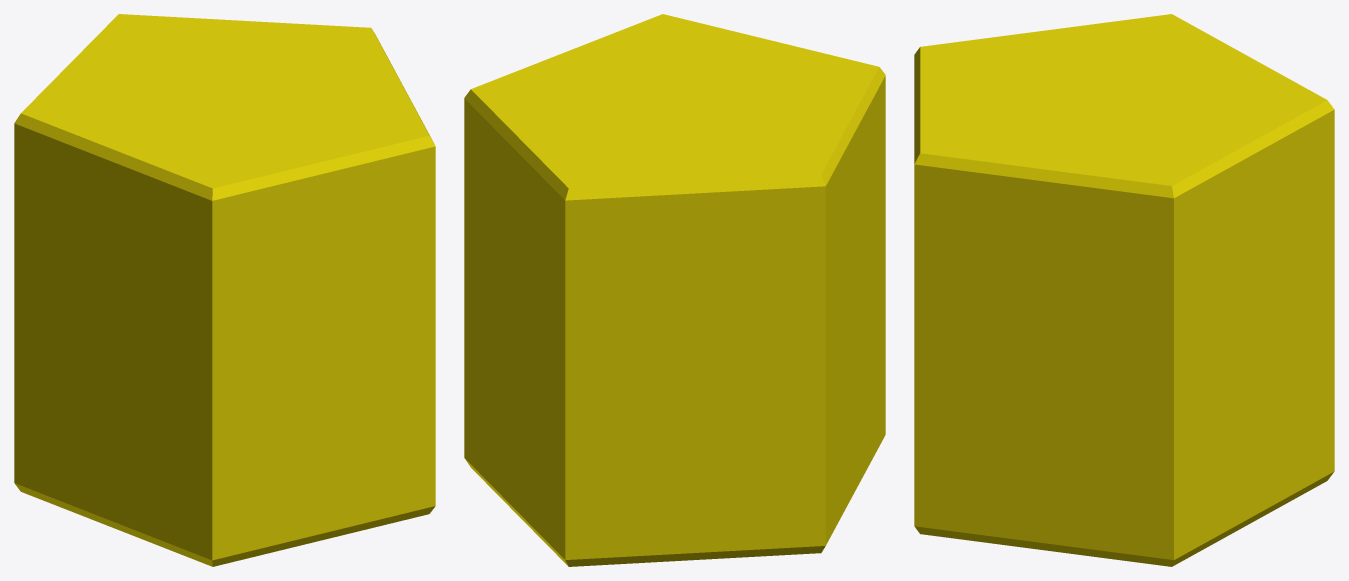
Rendered from pentagon.fbx.
3 renders of one model, left to right at view 1: azimuth 30°, elevation 25°; view 2: azimuth 150°, elevation 25°; view 3: azimuth 270°, elevation 25°, orthographic.
Visible parts, largest first — view 1: Pentagon; view 2: Pentagon; view 3: Pentagon.
Boxes of the visible parts, box(x1,y1,x2,y2) form: Pentagon: box(14, 14, 435, 566); Pentagon: box(464, 14, 885, 566); Pentagon: box(914, 14, 1334, 566).
Size of the model in its own units: 0.15 by 0.15 by 0.15.
